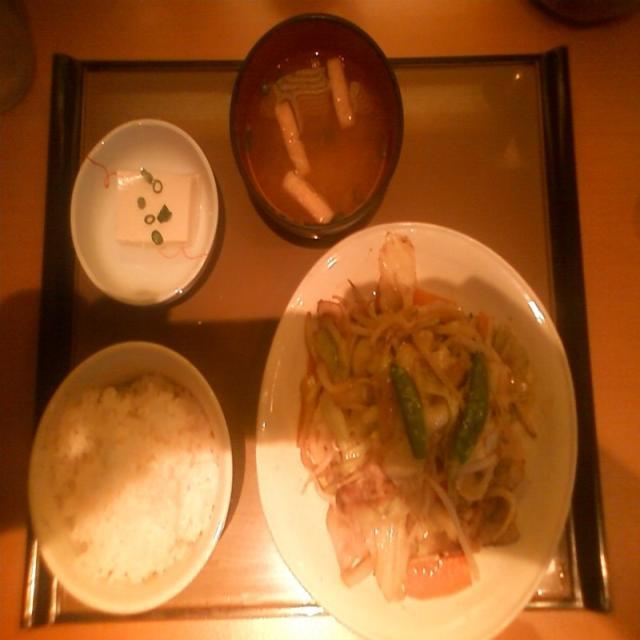Rice: (41, 377, 229, 598)
